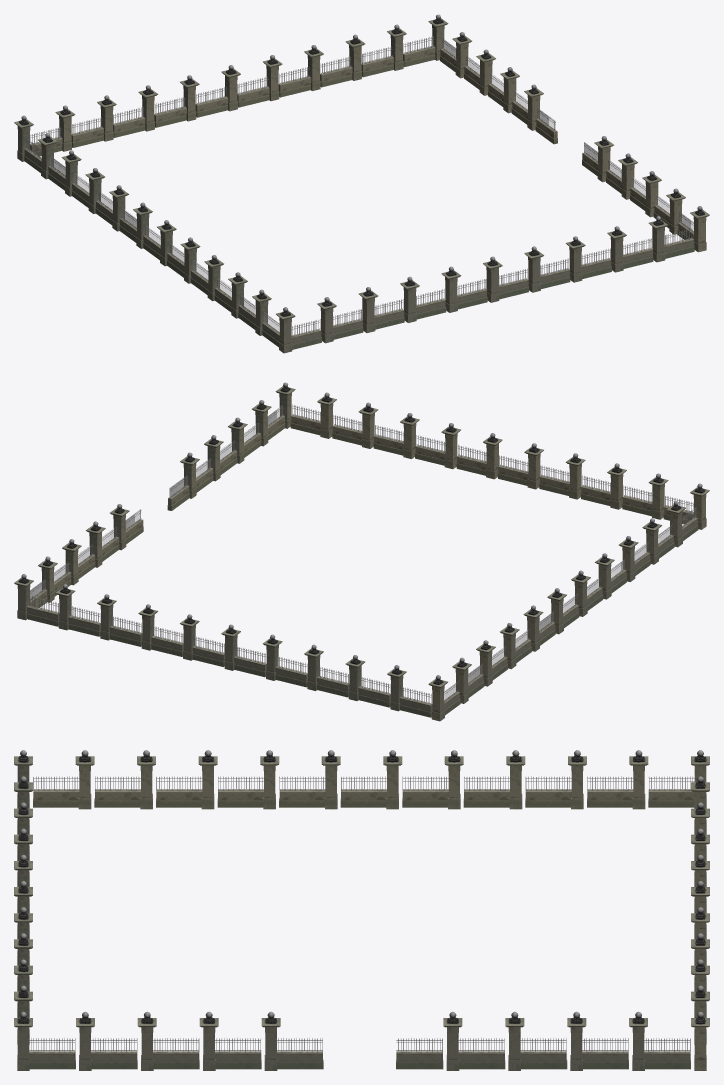
File: graveyard_wall.glb
3 renders of one model, top to bottom at view 1: azimuth 30°, elevation 25°; view 2: azimuth 150°, elevation 25°; view 3: azimuth 270°, elevation 25°, orthographic. The views are drawn at different scales.
Visible parts, largest first — view 1: wall_chunk_5, wall_chunk_12, wall_chunk_11, wall_chunk_4, wall_chunk_3, wall_chunk_6, wall_chunk_10, wall_chunk_2, wall_chunk_0, wall_chunk_9, wall_chunk_7, wall_chunk_8 (+2 smaller); view 2: wall_chunk_11, wall_chunk_12, wall_chunk_4, wall_chunk_5, wall_chunk_6, wall_chunk_10, wall_chunk_3, wall_chunk_7, wall_chunk_9, wall_chunk_8, wall_chunk_0, wall_chunk_2 (+2 smaller); view 3: wall_chunk_0, wall_chunk_2, wall_chunk_7, wall_chunk_8, wall_chunk_9, wall_chunk_1, wall_chunk_10, wall_chunk_3, wall_chunk_6, wall_chunk_12, wall_chunk_4, wall_chunk_5 (+2 smaller).
Part boxes in pixels (bbox=[...]): wall_chunk_5: bbox=[483, 236, 611, 302]; wall_chunk_12: bbox=[113, 65, 240, 137]; wall_chunk_11: bbox=[237, 34, 365, 107]; wall_chunk_4: bbox=[358, 266, 487, 332]; wall_chunk_3: bbox=[276, 32, 471, 353]; wall_chunk_6: bbox=[14, 115, 694, 272]; wall_chunk_10: bbox=[252, 14, 448, 347]; wall_chunk_2: bbox=[464, 49, 543, 130]; wall_chunk_0: bbox=[630, 171, 709, 252]; wall_chunk_9: bbox=[180, 237, 255, 329]; wall_chunk_7: bbox=[38, 133, 112, 224]; wall_chunk_8: bbox=[109, 185, 184, 277]; wall_chunk_11: bbox=[97, 594, 224, 666]; wall_chunk_12: bbox=[221, 624, 349, 697]; wall_chunk_4: bbox=[498, 443, 626, 509]; wall_chunk_5: bbox=[373, 413, 502, 479]; wall_chunk_6: bbox=[290, 392, 460, 721]; wall_chunk_10: bbox=[14, 501, 698, 636]; wall_chunk_3: bbox=[30, 473, 709, 607]; wall_chunk_7: bbox=[452, 623, 531, 703]; wall_chunk_9: bbox=[595, 518, 674, 599]; wall_chunk_8: bbox=[523, 570, 603, 651]; wall_chunk_0: bbox=[220, 382, 295, 474]; wall_chunk_2: bbox=[54, 504, 129, 596]; wall_chunk_0: bbox=[14, 1011, 199, 1070]; wall_chunk_2: bbox=[443, 1011, 628, 1070]; wall_chunk_7: bbox=[463, 750, 648, 809]; wall_chunk_8: bbox=[279, 750, 463, 809]; wall_chunk_9: bbox=[94, 750, 279, 809]; wall_chunk_1: bbox=[199, 1011, 443, 1070]; wall_chunk_10: bbox=[33, 750, 709, 1070]; wall_chunk_3: bbox=[14, 750, 690, 1070]; wall_chunk_6: bbox=[14, 750, 709, 1044]; wall_chunk_12: bbox=[691, 828, 709, 938]; wall_chunk_4: bbox=[14, 802, 32, 912]; wall_chunk_5: bbox=[14, 881, 32, 991].
Size of the model in its own units: 38.75 by 3.76 by 42.27.
Materials: 2 (2 with a texture image).
